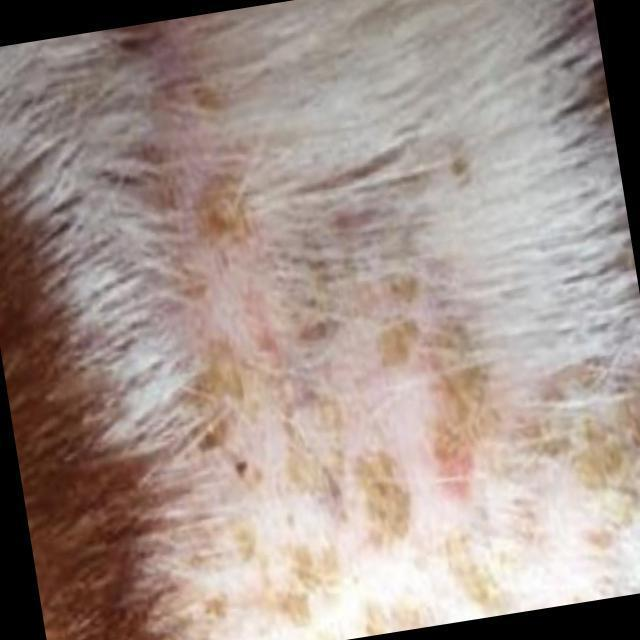allergic dermatitis: (106, 35, 300, 481)
